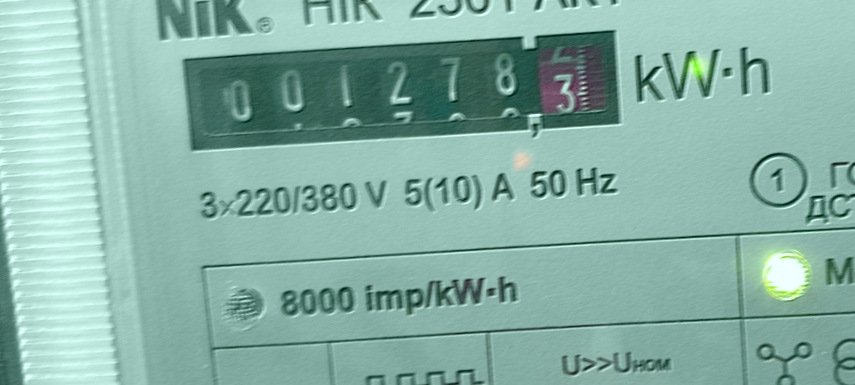0: (227, 75, 254, 123), (278, 67, 304, 114)
1: (336, 60, 354, 107)
2: (385, 60, 412, 107), (549, 44, 573, 64)
3: (550, 71, 577, 115)
7: (438, 55, 460, 102)
8: (492, 52, 517, 96)
screen: (167, 14, 637, 166)
